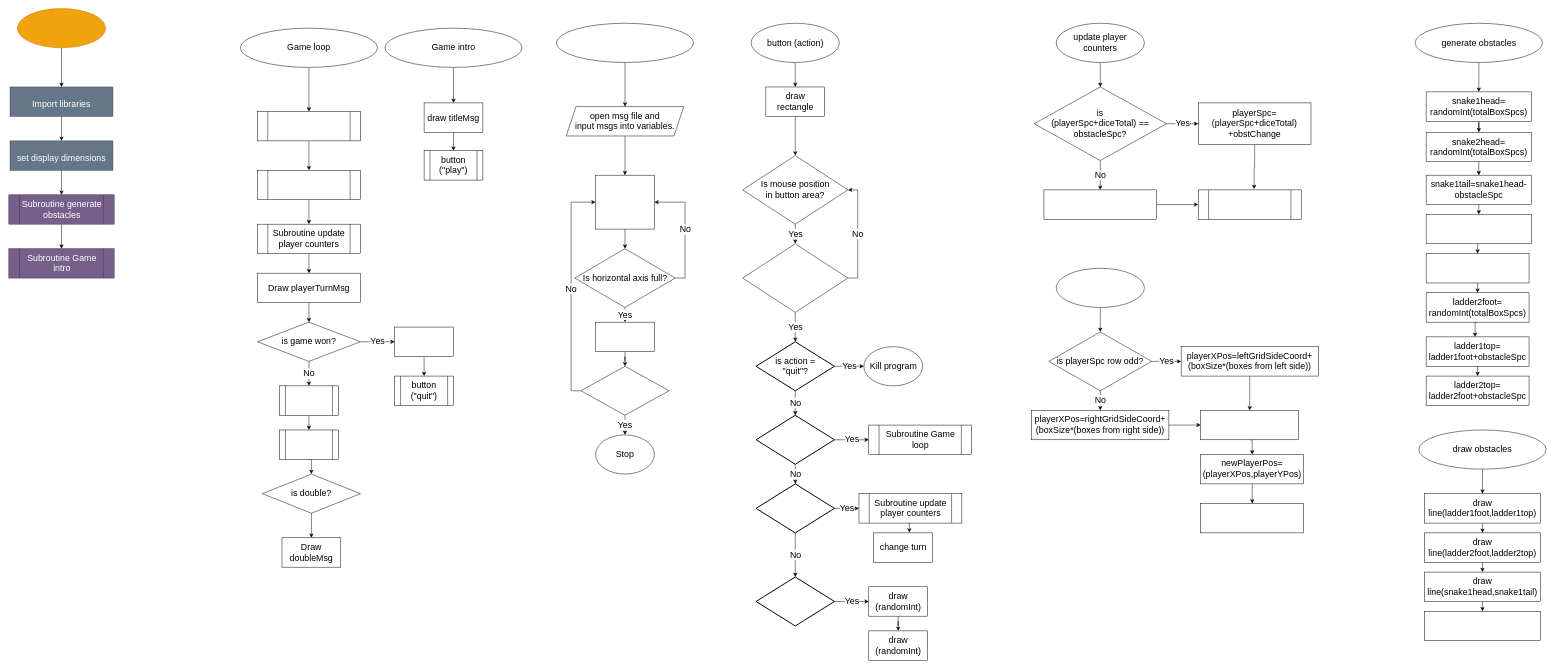
This 1555x669 diagram has some shape labels left out. The shapes that lost their labels are listed below. From the top down, each one's centre as x and y in pixels, then its label:
the point at 61,28: Start
the point at 625,42: Draw grid
the point at 308,126: Subroutine Draw grid
the point at 308,185: Subroutine draw obstacles
the point at 624,202: Draw box on horizontal axis
the point at 1100,204: playerSpc+=moveChange
the point at 1249,204: Subroutine calcPlayerPos
the point at 1478,229: snake2tail=snake2head-obstacleSpc
the point at 795,277: Is mouse button 1 down?
the point at 1100,287: calcPlayerPos
the point at 1477,268: ladder1foot= randomInt(totalBoxSpcs)
the point at 423,341: Draw winMsg
the point at 624,337: Move down vertical axis
the point at 308,400: button ("roll")
the point at 624,390: Is vertical axis full?
the point at 308,444: button ("move")
the point at 795,440: is action = "play"?
the point at 1249,425: playerYPos=startYPos-(columnsUp*boxSize)
the point at 795,508: is action = "move"?
the point at 1252,518: draw playerCounters in newPlayerPos
the point at 795,601: is action = "roll"?
the point at 1482,626: draw line(snake2head,snake2tail)
